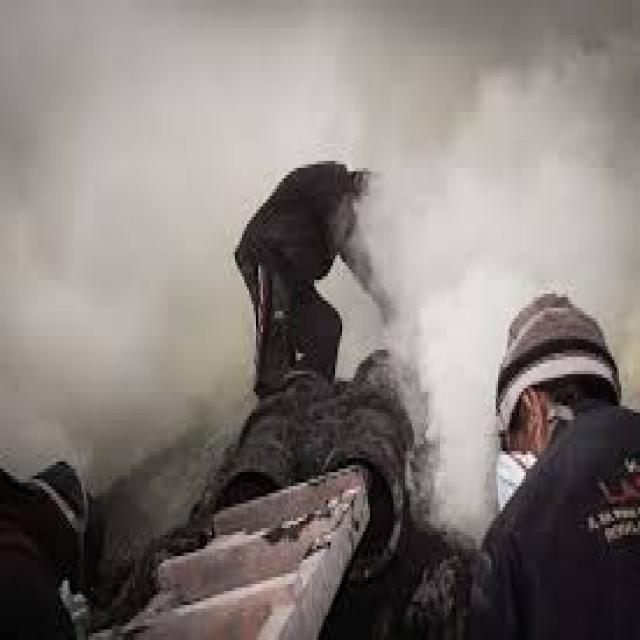Smoke: (386, 56, 640, 483)
